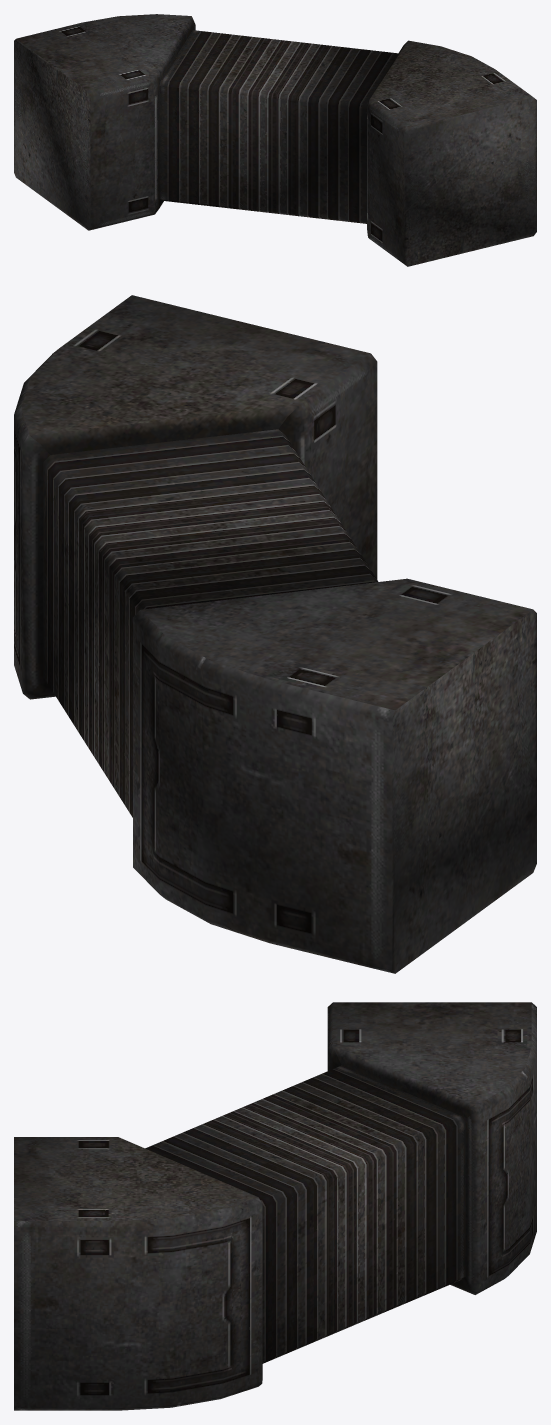
The model's file is girder_lab_turn_90.dae.
3 views of the same model, one above another, from view 1: azimuth 30°, elevation 25°; view 2: azimuth 150°, elevation 25°; view 3: azimuth 270°, elevation 25° (orthographic). The views are drawn at different scales.
Parts seen in each view (by area): view 1: polySurface4; view 2: polySurface4; view 3: polySurface4.
Boxes of the visible parts, x1,y1,x2,y2 form: polySurface4: (14, 14, 536, 266); polySurface4: (14, 295, 536, 973); polySurface4: (14, 1002, 536, 1410).
Size of the model in its own units: 0.625 by 0.25 by 0.625.
